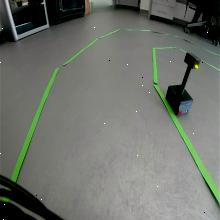green: (183, 51, 201, 70)
